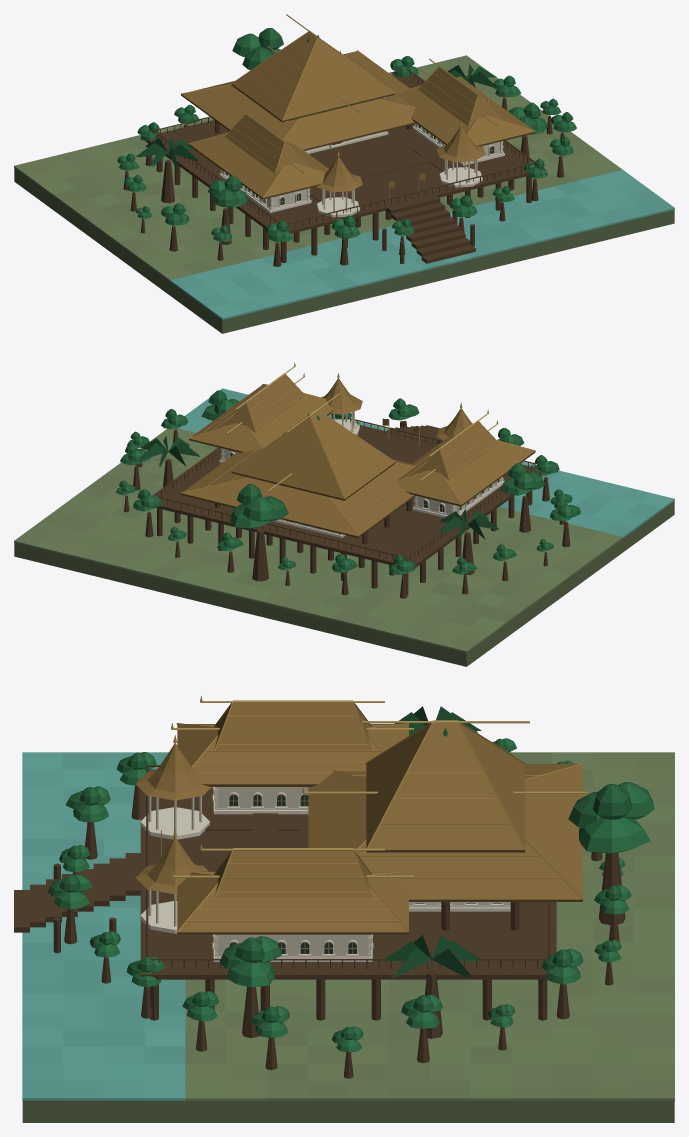
The model's file is monsoon.glb.
3 renders of one model, top to bottom at view 1: azimuth 30°, elevation 25°; view 2: azimuth 150°, elevation 25°; view 3: azimuth 270°, elevation 25°, orthographic. The views are drawn at different scales.
Parts seen in each view (by area): view 1: site, posts, assembly-roof, ranges-roof, landscape, water-garden, ranges, assembly; view 2: site, assembly-roof, posts, ranges-roof, landscape, water-garden, ranges, assembly; view 3: site, ranges-roof, assembly-roof, posts, landscape, water-garden, ranges, assembly.
Part boxes in pixels (box(x1,y1,x2,y2)): site: box(14, 55, 674, 333); posts: box(146, 68, 544, 263); assembly-roof: box(181, 14, 416, 150); ranges-roof: box(188, 59, 535, 199); landscape: box(117, 56, 576, 266); water-garden: box(135, 27, 546, 263); ranges: box(219, 123, 504, 217); assembly: box(215, 97, 411, 153); site: box(14, 388, 674, 666); assembly-roof: box(181, 389, 415, 537); posts: box(153, 413, 542, 595); ranges-roof: box(189, 362, 535, 506); landscape: box(116, 398, 580, 598); water-garden: box(139, 390, 544, 581); ranges: box(219, 411, 504, 517); assembly: box(215, 475, 411, 543); site: box(22, 752, 674, 1122); ranges-roof: box(135, 696, 413, 934); assembly-roof: box(302, 715, 587, 901); posts: box(14, 765, 556, 1020); landscape: box(47, 738, 631, 1078); water-garden: box(53, 706, 654, 1038); ranges: box(140, 787, 373, 961); assembly: box(375, 852, 519, 930).
Bounding box in the file's own units: 59.01 × 18.67 × 47.66.
